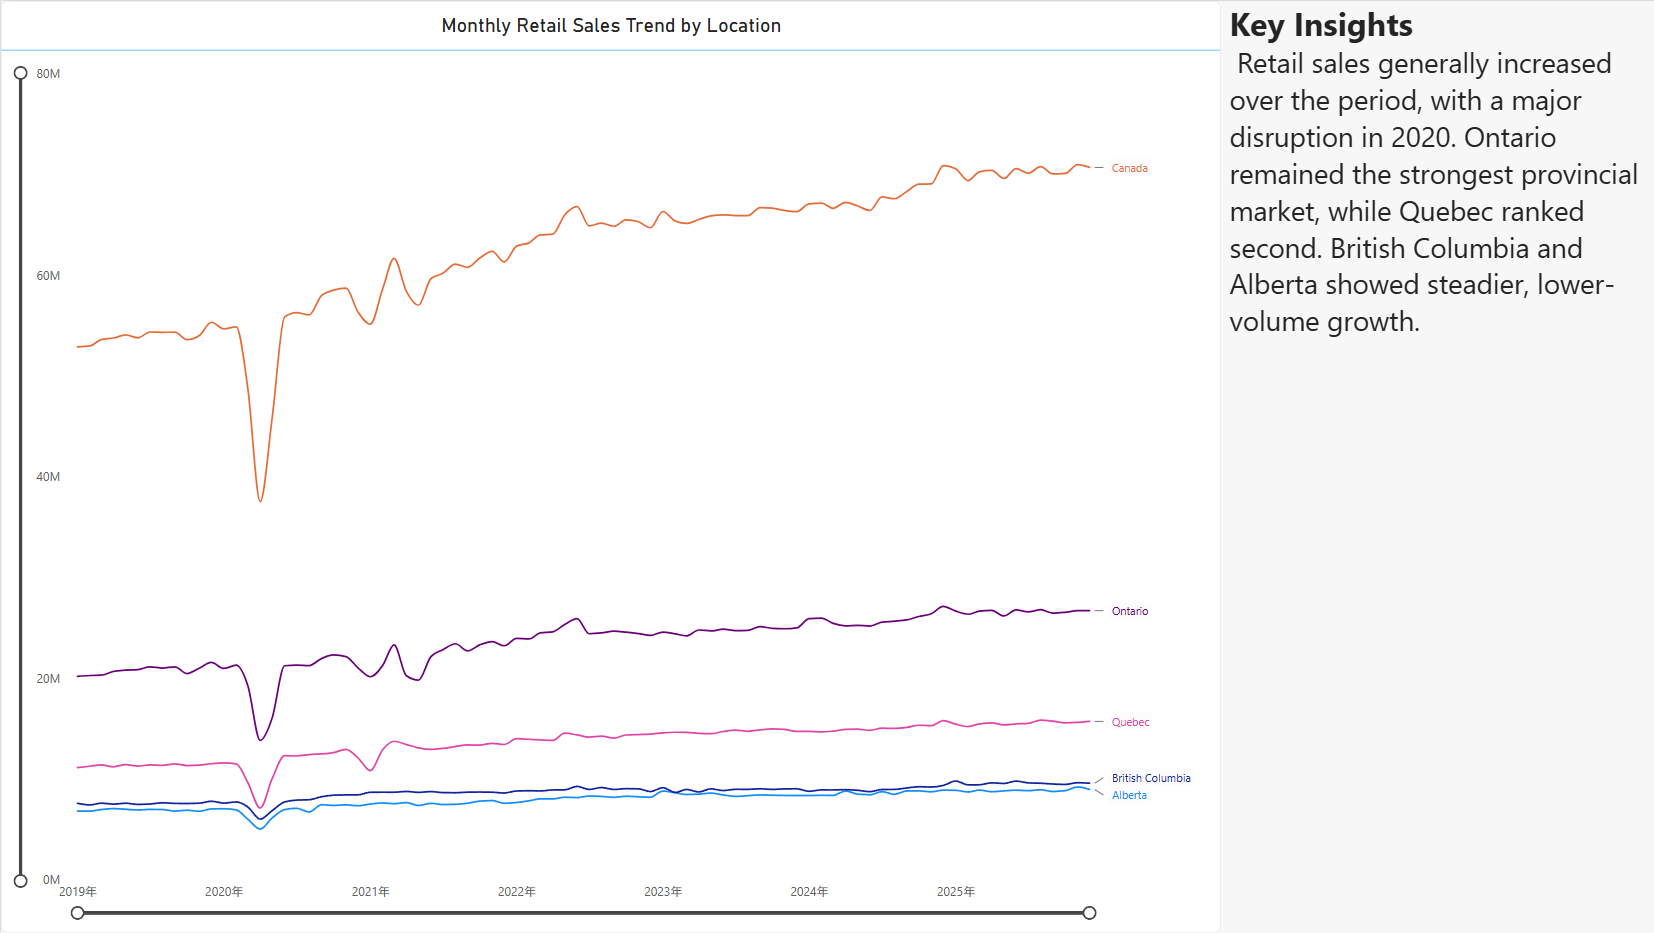

This screenshot's page, from the dashboard's own definition file:
{"tool":"powerbi","page":{"name":"Retail Sales Trends","canvas":[1920,1080],"ordinal":1},"visuals":[{"type":"lineChart","title":"Monthly Retail Sales Trend by Location","fields":{"Category":["sta_canada retail_base.Date"],"Series":["sta_canada retail_base.location"],"Y":["Sum(sta_canada retail_base.value)"]},"box":[0,0,1413.1,1079.4],"z":0},{"type":"textbox","box":[1423,0,497,1079],"z":1}]}

Visuals, with their boxes in screenshot pixels (x1, y1, x2, y2), scaled from the page's 1920x1080 canvas onto the 1654x933 screenshot:
"Monthly Retail Sales Trend by Location" lineChart: left=0, top=0, right=1217, bottom=932
textbox: left=1226, top=0, right=1653, bottom=932
